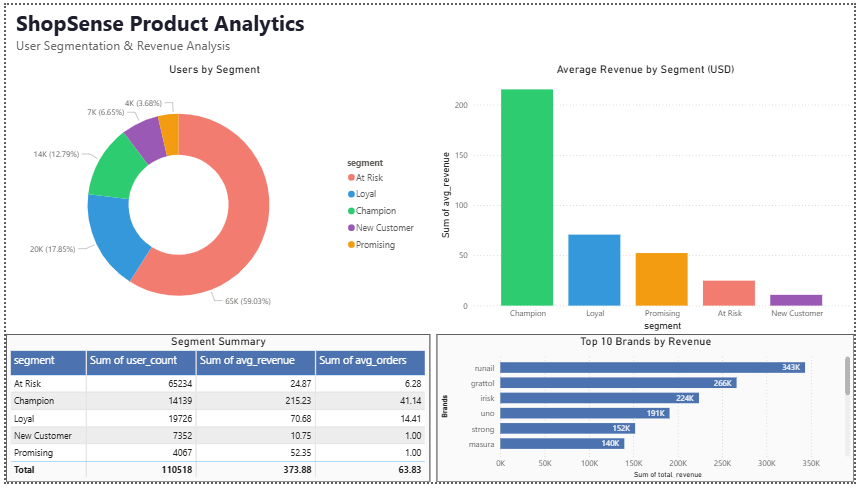

The dashboard page shown, as its layout file describes it:
{"tool":"powerbi","page":{"name":"User Segmentation","canvas":[1280,720],"ordinal":3},"visuals":[{"type":"textbox","box":[10,0,1270,86],"z":0},{"type":"donutChart","title":"Users by Segment","fields":{"Category":["user_segments.segment"],"Y":["Sum(user_segments.user_count)"]},"box":[0,86.7,630,410],"z":1000},{"type":"clusteredColumnChart","title":"Average Revenue by Segment (USD)","fields":{"Category":["user_segments.segment"],"Y":["Sum(user_segments.avg_revenue)"]},"box":[650,86.7,630,410],"z":2000},{"type":"tableEx","title":"Segment Summary","fields":{"Values":["user_segments.segment","Sum(user_segments.user_count)","Sum(user_segments.avg_revenue)","Sum(user_segments.avg_orders)"]},"box":[0,496.7,640,223.3],"z":3000},{"type":"clusteredBarChart","title":"Top 10 Brands by Revenue","fields":{"Category":["top_brands.brand"],"Y":["Sum(top_brands.total_revenue)"]},"box":[650,496.7,630,223.3],"z":4000}]}

Visuals, with their boxes in screenshot pixels (x1, y1, x2, y2), scaled from the page's 1280x720 canvas onto the 860x489 screenshot:
textbox: [7,0,859,58]
"Users by Segment" donutChart: [0,59,423,337]
"Average Revenue by Segment (USD)" clusteredColumnChart: [437,59,859,337]
"Segment Summary" tableEx: [0,337,430,488]
"Top 10 Brands by Revenue" clusteredBarChart: [437,337,859,488]
